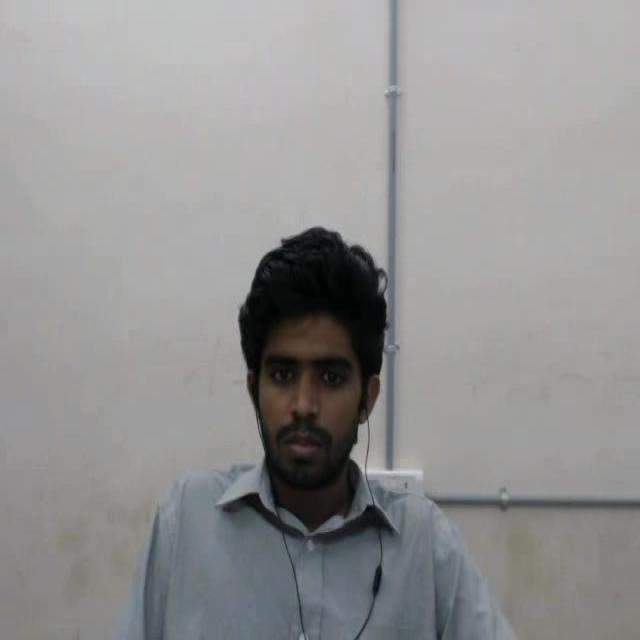Engaged: (215, 207, 425, 531)
